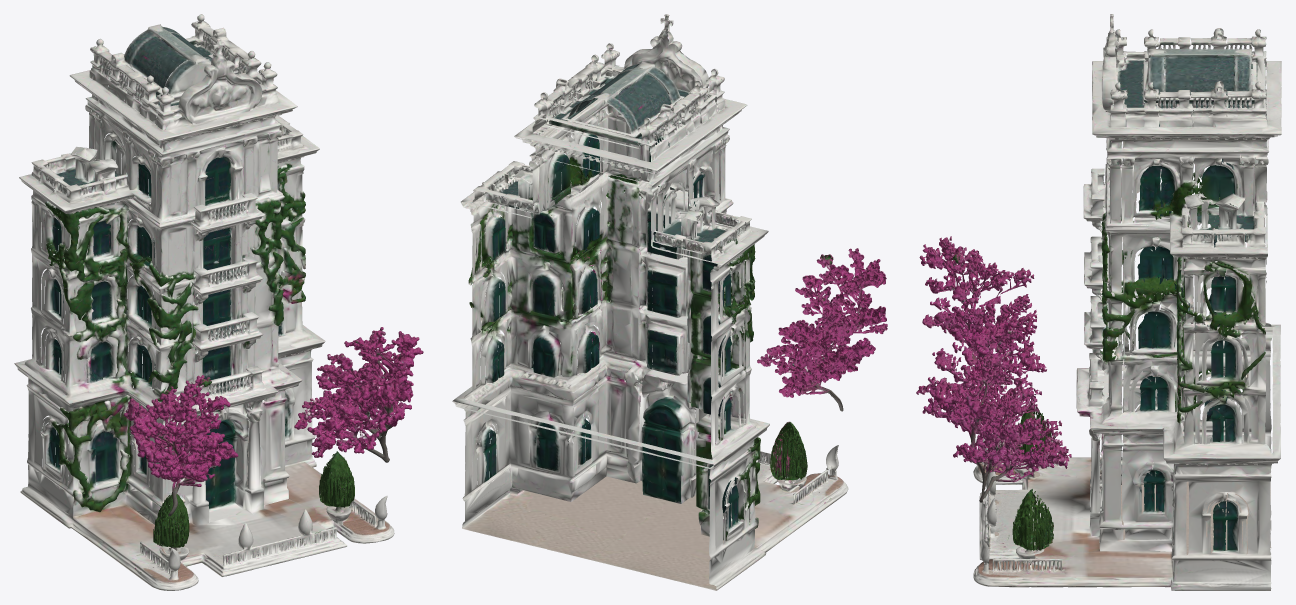
File: garden_block.glb
The picture shows the model from 3 angles, left to right: view 1: azimuth 30°, elevation 25°; view 2: azimuth 150°, elevation 25°; view 3: azimuth 270°, elevation 25°; orthographic projection. The views are drawn at different scales.
Bounding box in the file's own units: 1.25 × 1.9 × 1.23.
1 material, 1 textured.
